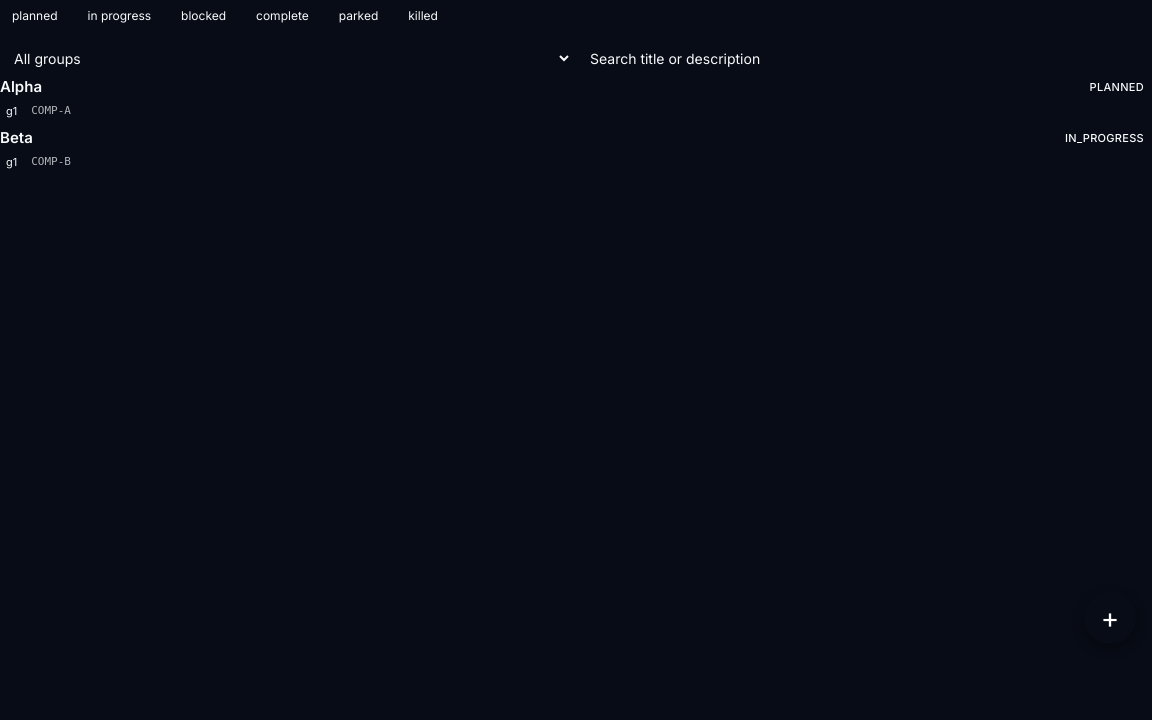
it: ItemDetailSheet delete two-tap (S03) › first tap arms delete button (shows confirm text)
Click the button with test id "mobile-item-card-COMP-A" at (21, 86), box [0,77,1151,120]
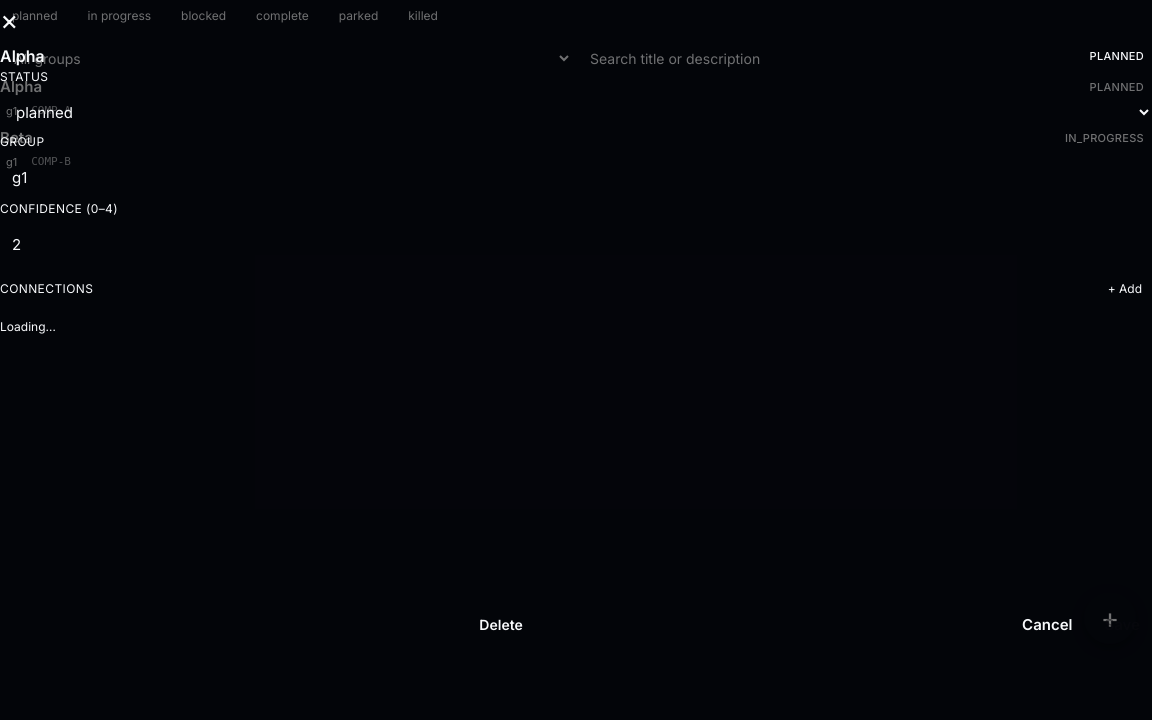
Click the button with test id "mobile-item-sheet-delete" at (501, 625), box [0,602,1002,648]
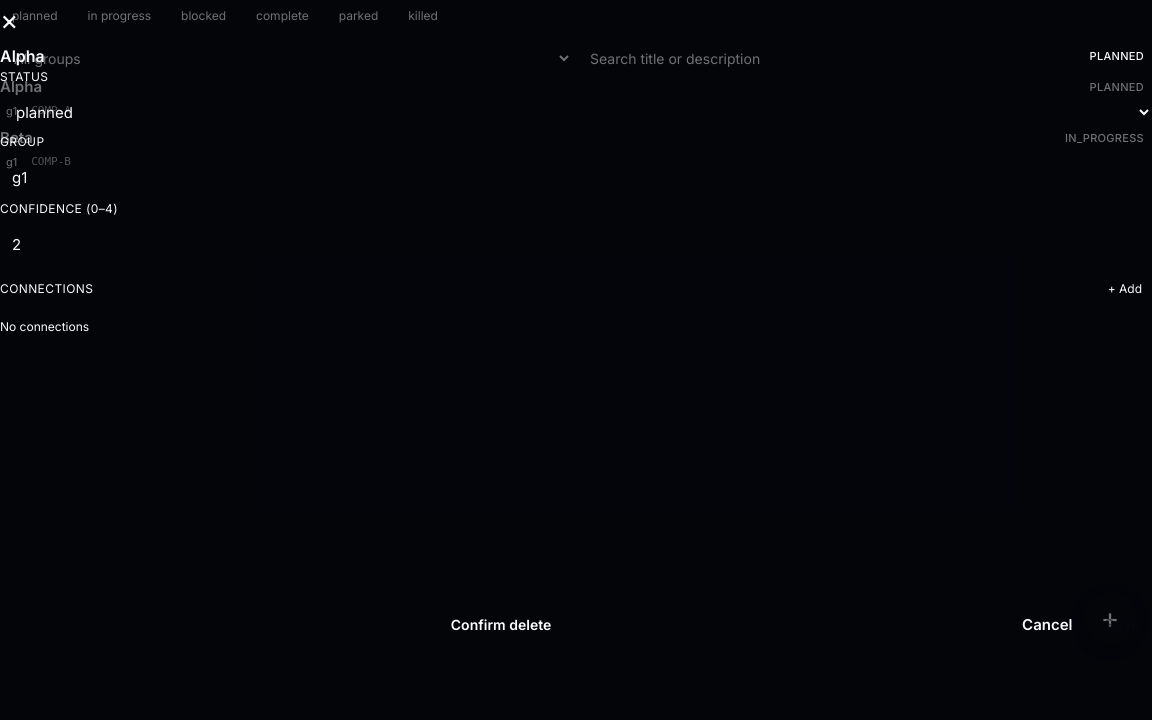
expect the button with test id "mobile-item-sheet-delete" shows "Confirm": met, box [0,602,1002,648]
